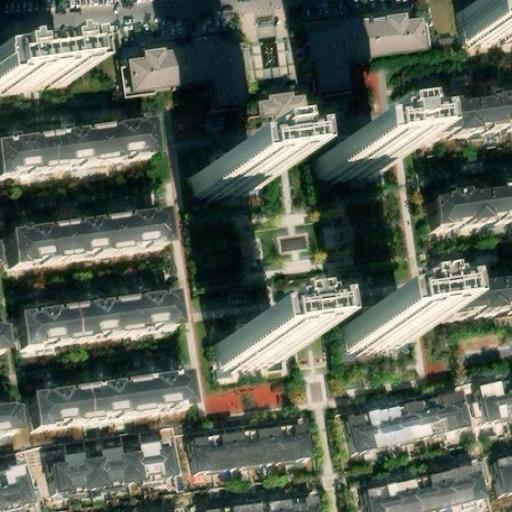building: (312, 11, 431, 93), (9, 211, 170, 270), (29, 372, 190, 431), (18, 295, 178, 354), (0, 121, 151, 179), (125, 43, 254, 105), (348, 389, 468, 455), (52, 439, 179, 493), (188, 421, 315, 473), (367, 461, 487, 512), (418, 99, 512, 140), (423, 196, 512, 236), (319, 139, 391, 181), (0, 53, 70, 96), (195, 158, 266, 200), (217, 327, 288, 369), (344, 309, 415, 351), (441, 280, 512, 318), (457, 1, 512, 45), (202, 495, 321, 512), (0, 461, 38, 511), (480, 377, 512, 423), (494, 452, 512, 494), (0, 404, 20, 437)
